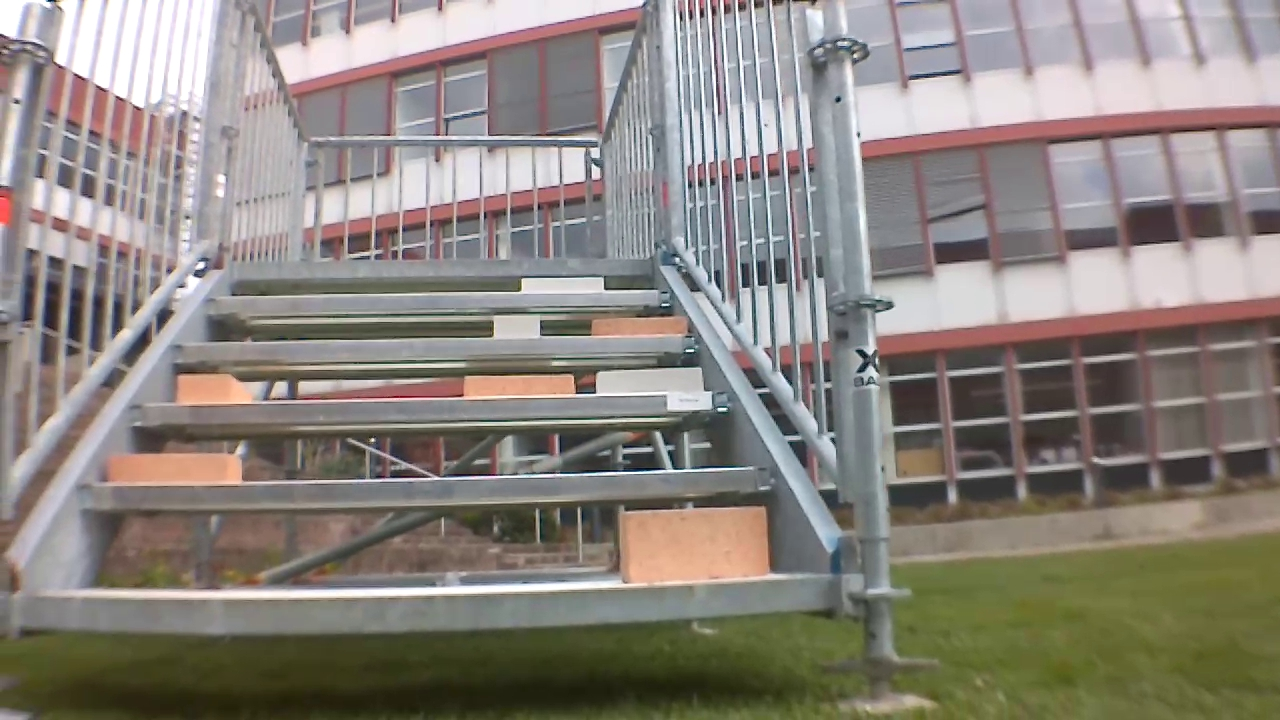brick: (619, 504, 779, 582), (597, 362, 706, 401), (101, 454, 247, 483), (460, 372, 570, 402), (169, 376, 254, 406), (595, 320, 698, 339), (521, 277, 609, 297), (483, 314, 543, 343)
edge: (22, 577, 853, 650), (83, 467, 775, 515), (128, 392, 731, 430), (201, 295, 669, 319), (185, 336, 708, 356), (230, 254, 660, 278)
stairs: (0, 0, 911, 694)
steps: (26, 256, 841, 635)
